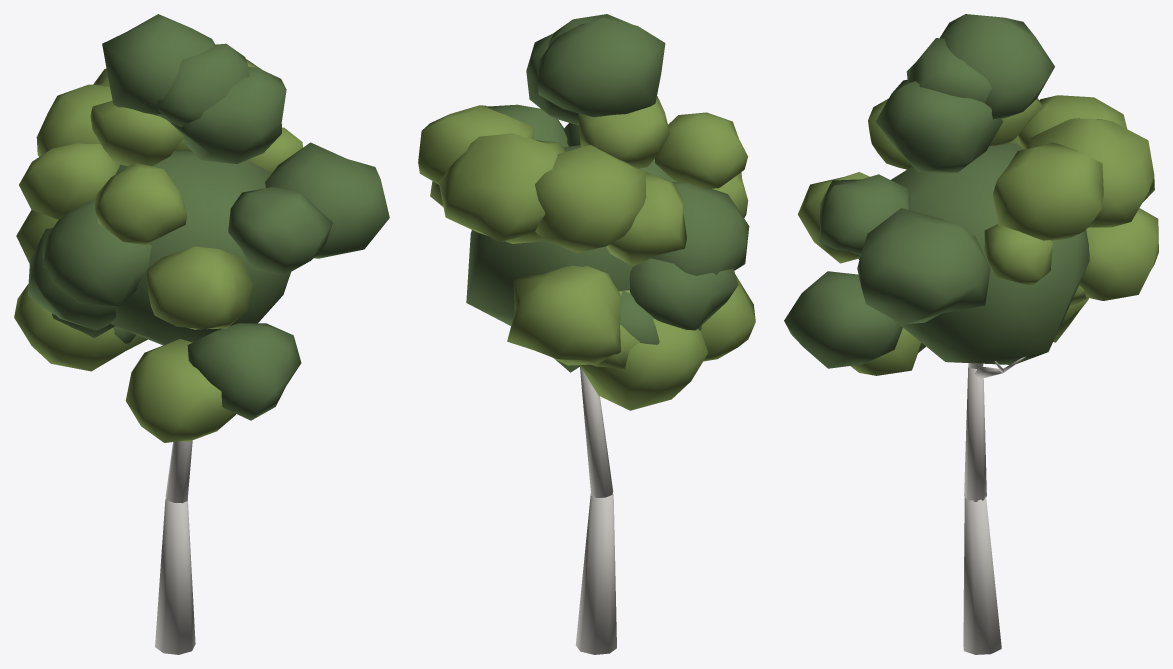
File: node_tree_aspen_1.glb
3 renders of one model, left to right at view 1: azimuth 30°, elevation 25°; view 2: azimuth 150°, elevation 25°; view 3: azimuth 270°, elevation 25°, orthographic.
Visible parts, largest first — view 1: blob.023, blob.013, blob.021, blob.017, blob.010, blob.006, blob.007, blob.001, blob.019, blob.016, blob.014, cyl (+8 smaller); view 2: blob.001, blob.012, blob.020, blob.018, blob.023, blob.004, blob.017, blob.016, cyl, blob.003, blob.008, blob.014 (+8 smaller); view 3: blob.023, blob.013, blob.008, blob.019, blob.021, blob.001, blob.012, blob.020, blob.007, cyl, blob.002, blob.011 (+6 smaller).
Boxes of the visible parts, <box> form: blob.023: <box>111,150,290,345</box>; blob.013: <box>265,142,389,258</box>; blob.021: <box>187,323,301,420</box>; blob.017: <box>43,199,151,306</box>; blob.010: <box>125,339,235,442</box>; blob.006: <box>146,246,252,329</box>; blob.007: <box>228,187,332,275</box>; blob.001: <box>102,14,215,116</box>; blob.019: <box>167,67,286,163</box>; blob.016: <box>94,162,186,244</box>; blob.014: <box>19,143,119,219</box>; cyl: <box>155,499,195,654</box>; blob.001: <box>537,18,665,117</box>; blob.012: <box>439,133,565,243</box>; blob.020: <box>507,265,621,365</box>; blob.018: <box>535,144,646,253</box>; blob.023: <box>466,145,677,372</box>; blob.004: <box>579,319,708,410</box>; blob.017: <box>651,181,749,275</box>; blob.016: <box>655,112,747,189</box>; cyl: <box>575,493,616,654</box>; blob.003: <box>629,258,738,330</box>; blob.008: <box>418,105,534,184</box>; blob.014: <box>606,171,686,266</box>; blob.023: <box>858,143,1089,364</box>; blob.013: <box>857,208,990,324</box>; blob.008: <box>993,142,1103,241</box>; blob.019: <box>875,79,1002,172</box>; blob.021: <box>784,271,902,368</box>; blob.001: <box>940,14,1054,119</box>; blob.012: <box>1027,118,1154,227</box>; blob.020: <box>1079,208,1158,300</box>; blob.007: <box>819,174,910,254</box>; cyl: <box>963,497,1001,654</box>; blob.002: <box>984,224,1052,286</box>; blob.011: <box>906,38,992,103</box>.
Bounding box in the file's own units: 4.29 × 8.18 × 4.43.
